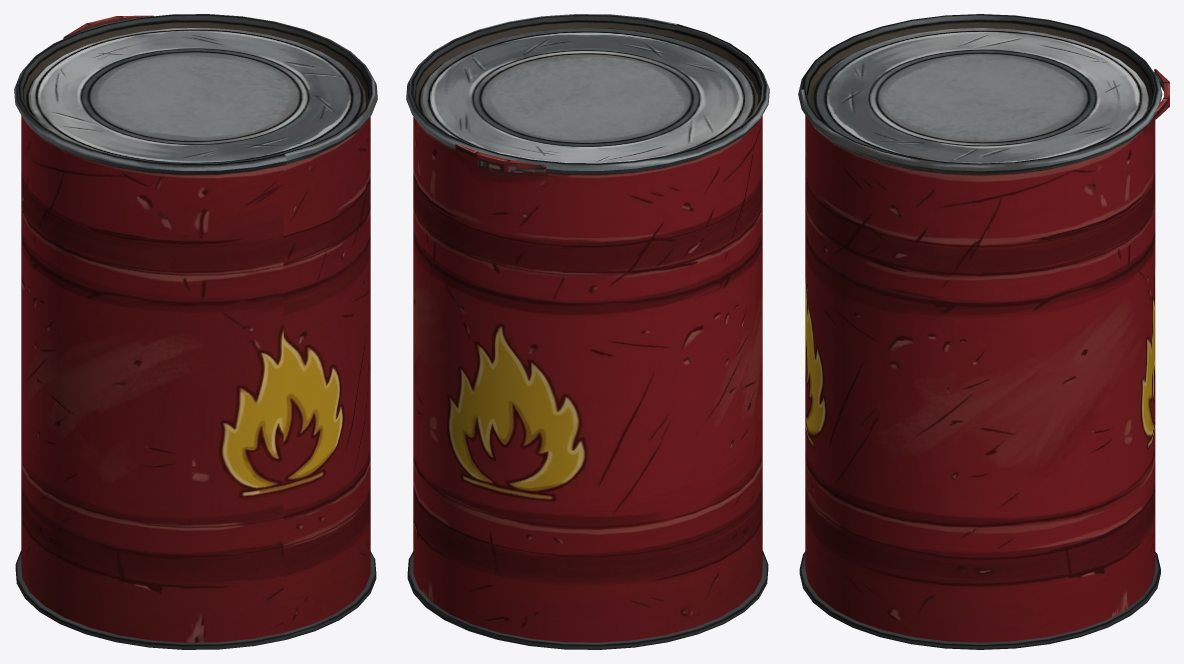
Rendered from fuel barrel.fbx.
The picture shows the model from 3 angles, left to right: view 1: azimuth 30°, elevation 25°; view 2: azimuth 150°, elevation 25°; view 3: azimuth 270°, elevation 25°; orthographic projection.
Visible parts, largest first — view 1: barrel_2_LP; view 2: barrel_2_LP; view 3: barrel_2_LP.
Boxes of the visible parts, x1,y1,x2,y2 form: barrel_2_LP: (14, 14, 377, 649); barrel_2_LP: (406, 14, 769, 649); barrel_2_LP: (798, 14, 1169, 649).
Size of the model in its own units: 77.77 by 114 by 79.35.
Materials: 1 (1 with a texture image).
